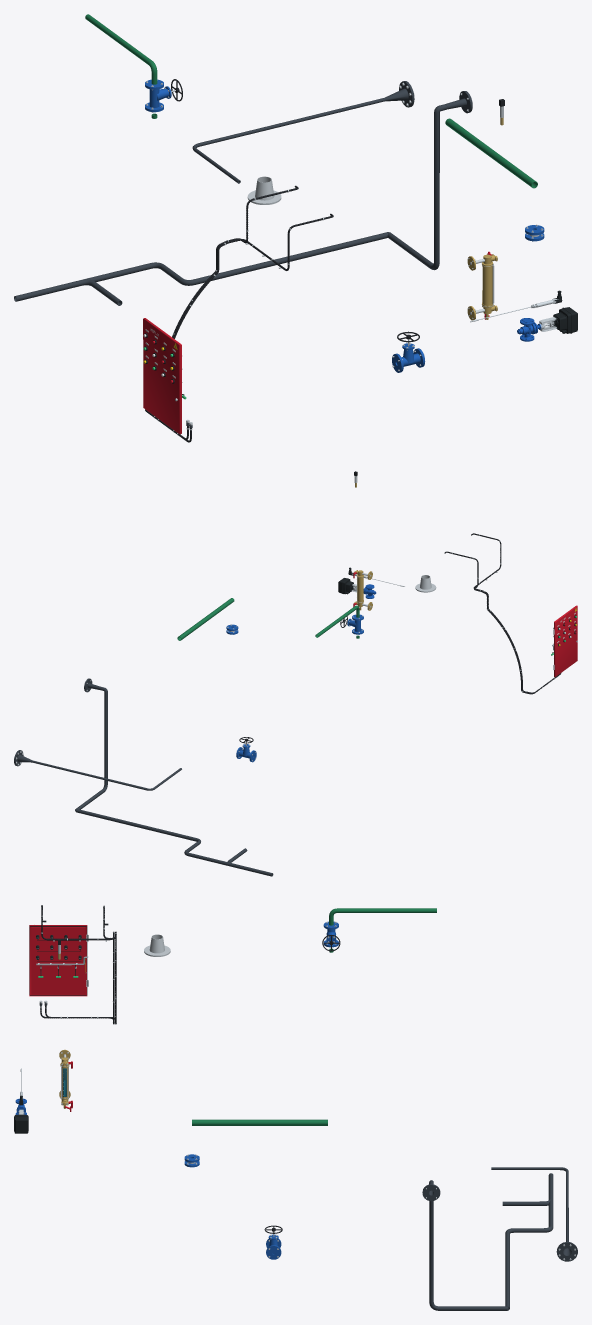
The picture shows the model from 3 angles, top to bottom: view 1: azimuth 30°, elevation 25°; view 2: azimuth 150°, elevation 25°; view 3: azimuth 270°, elevation 25°; orthographic projection. The views are drawn at different scales.
Visible parts, largest first — view 1: cabinet_door / cabinet_door_5.npz, bottom_discharge / dark, bottom_to_bdv / dark, tds_to_fv / dark, bcv925 / bcv925_0.npz, sight_glasses_1 / sight_glasses_1_0.npz, pump_delivery / green, wiring_lp200 / black, direct_inlet / green, bottom_bypass_after / dark, wiring_lp400 / black, steam_mount_adapter / steel (+2 smaller); view 2: cabinet_door / cabinet_door_5.npz, bottom_discharge / dark, bottom_to_bdv / dark, tds_to_fv / dark; view 3: cabinet_door / cabinet_door_5.npz, bottom_to_bdv / dark, pump_delivery / green, bottom_discharge / dark, tds_to_fv / dark, wiring_lp200 / black, direct_inlet / green, sight_glasses_1 / sight_glasses_1_0.npz.
Boxes of the visible parts, box(x1,y1,x2,y2) form: cabinet_door / cabinet_door_5.npz: box(143, 318, 182, 434); bottom_discharge / dark: box(15, 232, 388, 301); bottom_to_bdv / dark: box(387, 91, 472, 270); tds_to_fv / dark: box(192, 81, 414, 183); bcv925 / bcv925_0.npz: box(517, 307, 577, 341); sight_glasses_1 / sight_glasses_1_0.npz: box(467, 251, 497, 320); pump_delivery / green: box(445, 118, 537, 188); wiring_lp200 / black: box(148, 213, 333, 442); direct_inlet / green: box(85, 14, 157, 84); bottom_bypass_after / dark: box(14, 279, 122, 305); wiring_lp400 / black: box(145, 185, 298, 439); steam_mount_adapter / steel: box(247, 176, 281, 204); cabinet_door / cabinet_door_5.npz: box(553, 605, 577, 676); bottom_discharge / dark: box(75, 809, 273, 876); bottom_to_bdv / dark: box(75, 678, 107, 810); tds_to_fv / dark: box(14, 750, 181, 790); cabinet_door / cabinet_door_5.npz: box(29, 925, 88, 996); bottom_to_bdv / dark: box(422, 1180, 507, 1310); pump_delivery / green: box(192, 1119, 327, 1125); bottom_discharge / dark: box(505, 1173, 553, 1310); tds_to_fv / dark: box(491, 1167, 577, 1261); wiring_lp200 / black: box(40, 905, 114, 1024); direct_inlet / green: box(329, 908, 436, 925); sight_glasses_1 / sight_glasses_1_0.npz: box(59, 1049, 72, 1111).
Bounding box in the file's own units: 4.81 × 3.1 × 5.19.
